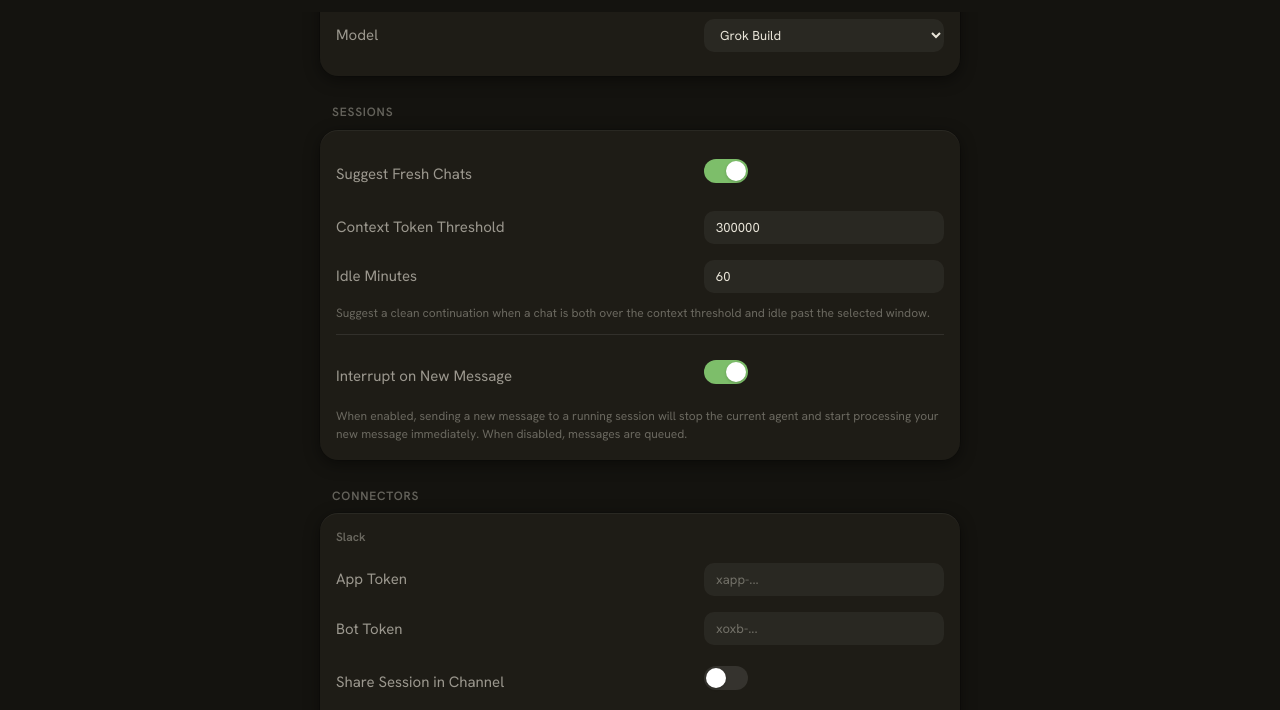
Test: a hand edit under an open page › renders a conflict notice instead of the generic failure, and does not retry
Click the switch named "Interrupt on new message" at x=726, y=372, box [704, 356, 748, 390]
(page scrolled)
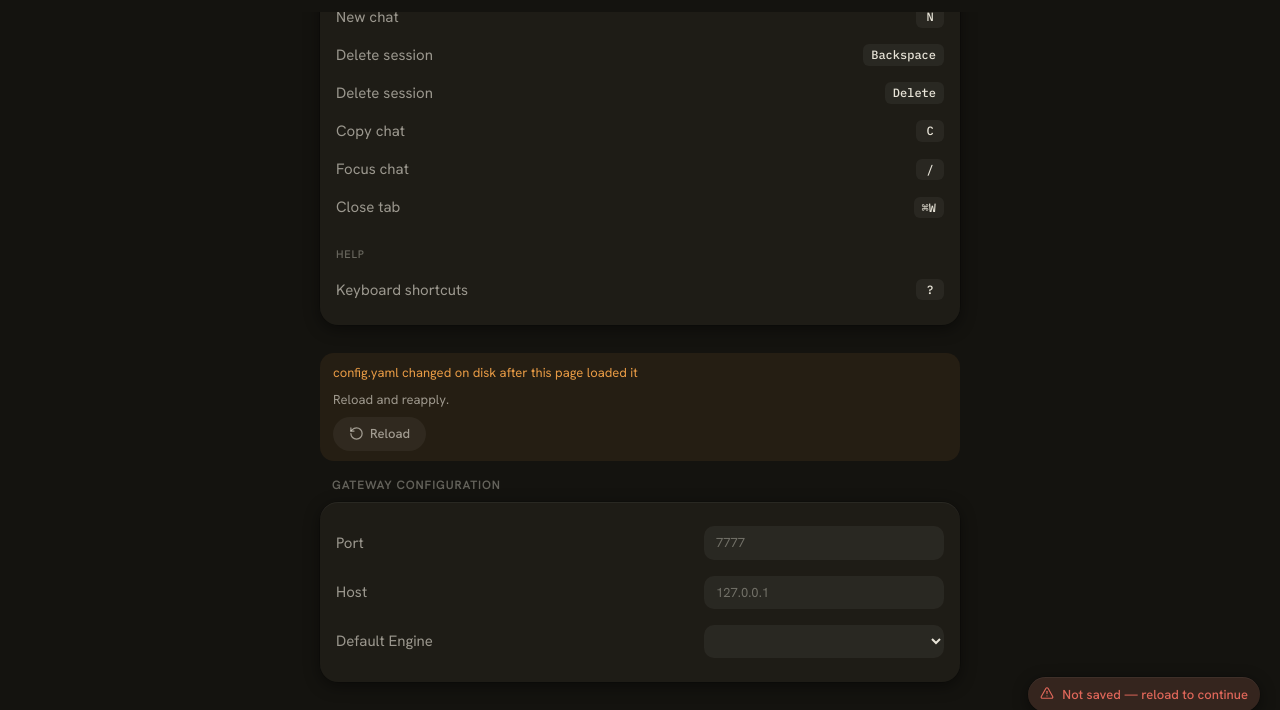
Result: the text "config.yaml changed on disk after this page loaded it" is shown at [333, 363, 638, 382]
